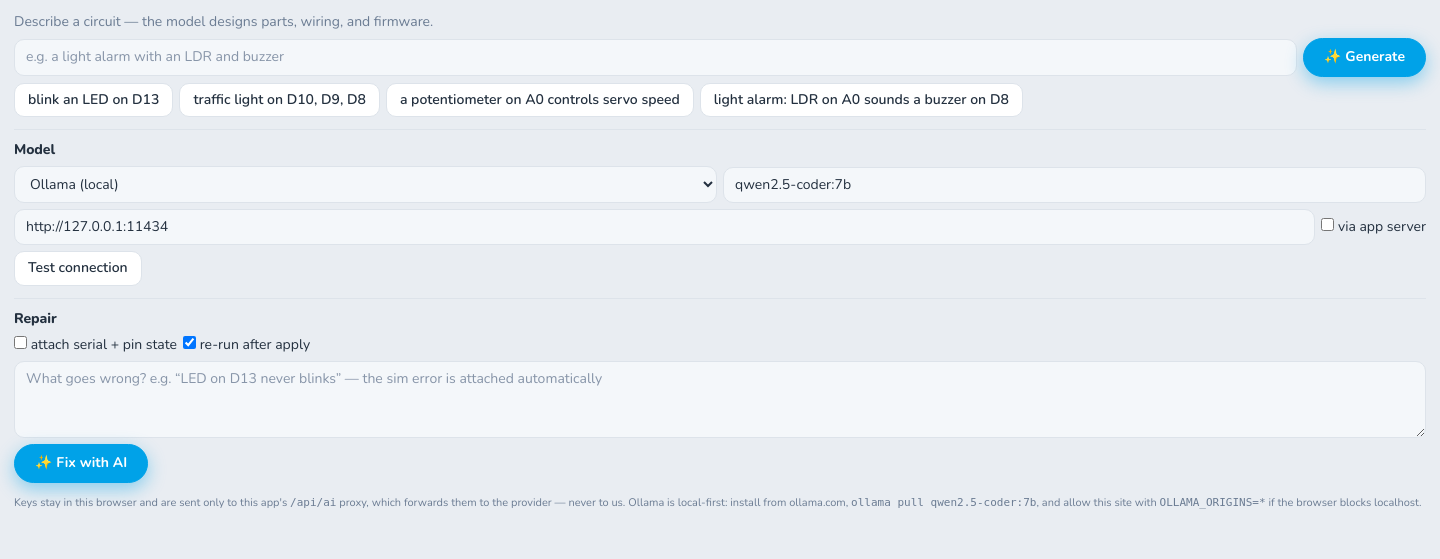
it: AiPanel repair loop › rejects an empty problem and a garbage model reply
The image size is (1440, 559).
Click the button "✨ Fix with AI" at (81, 463), box [14,444,148,483]
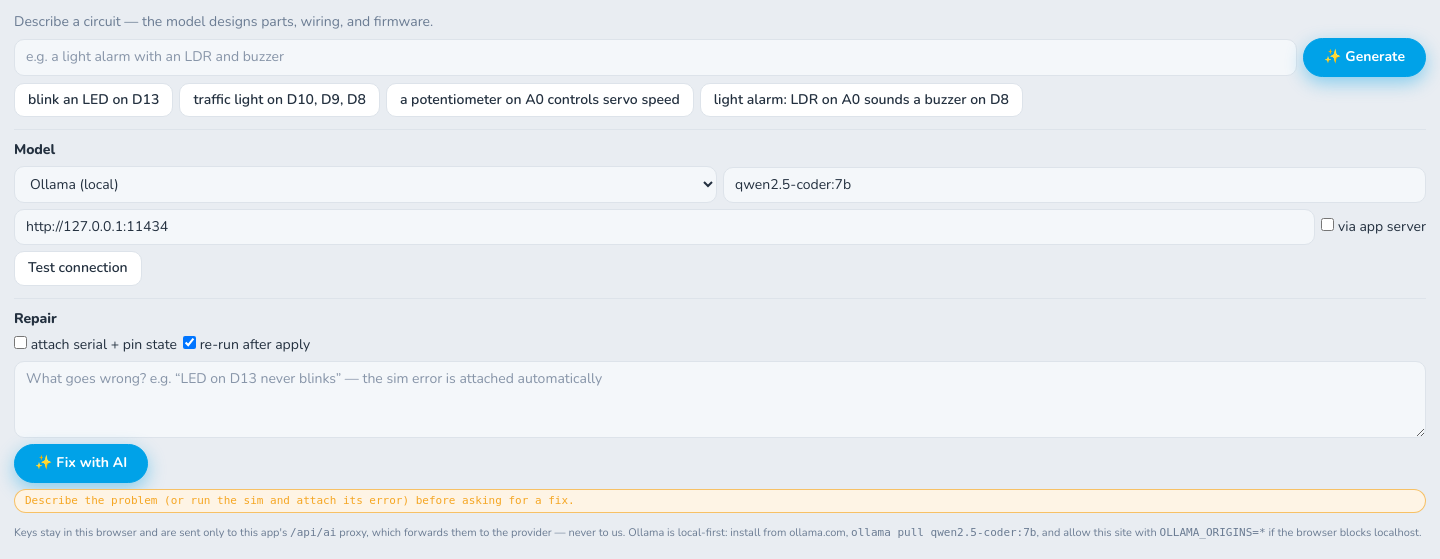
Result: the text "Describe the problem" is shown at [25,494,575,507]
Replace the text in the text box with "LED is dark" at (720, 400), box [14,361,1426,438]
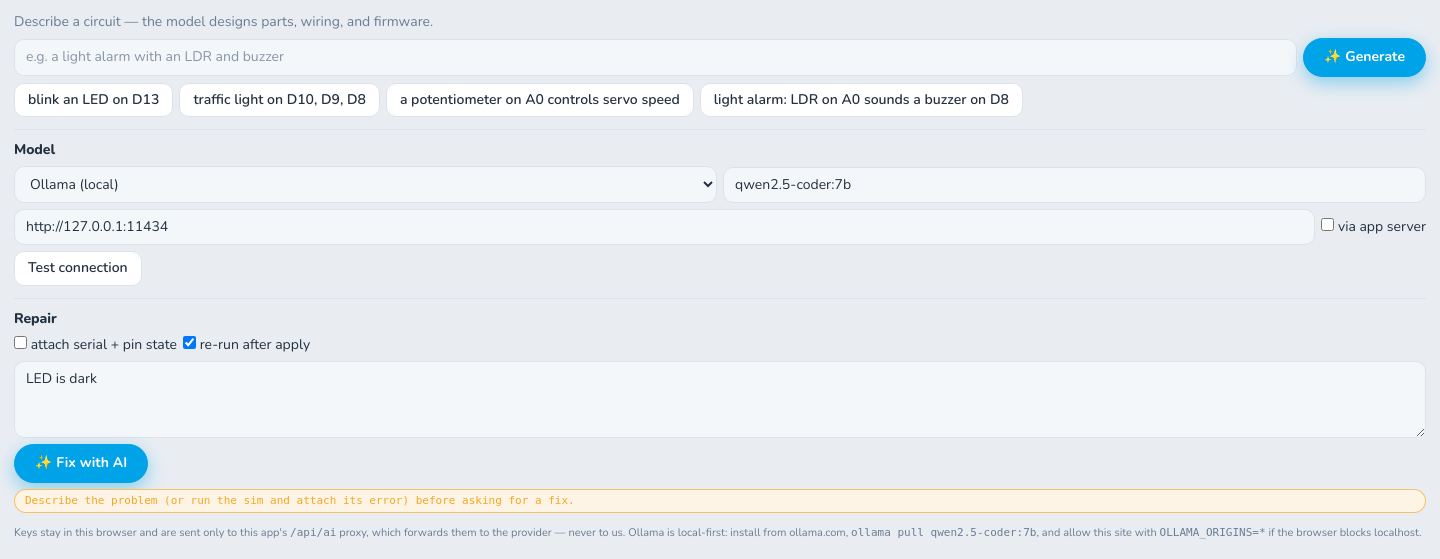
Click the button "✨ Fix with AI" at (81, 463), box [14,444,148,483]
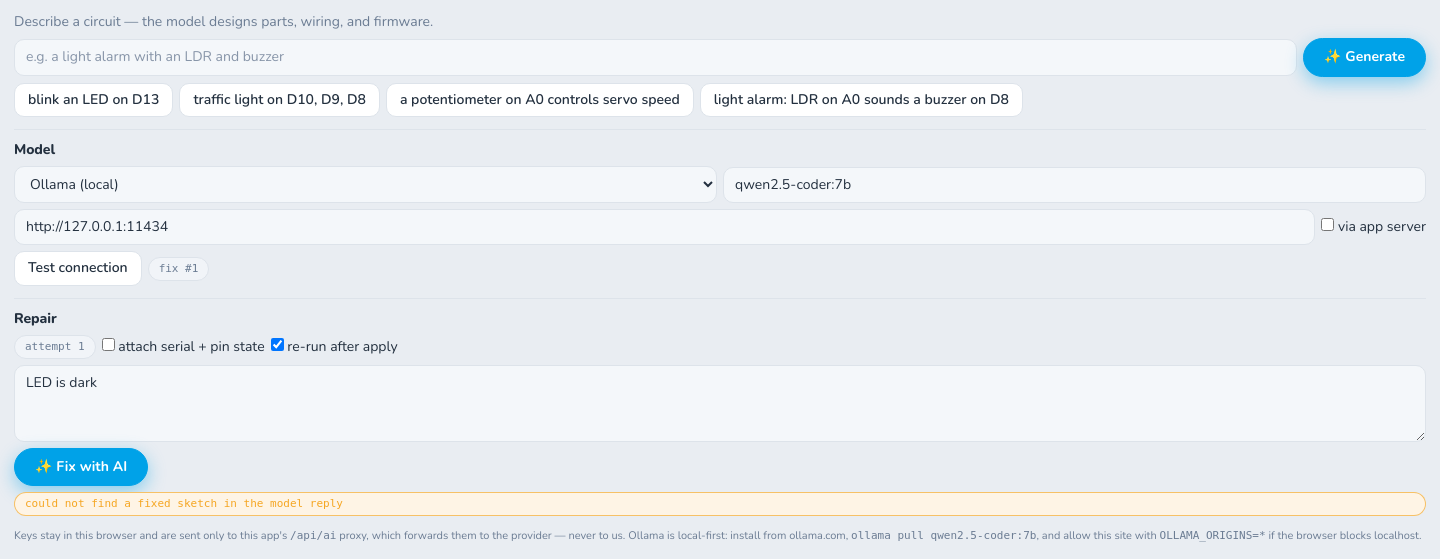
Result: the text "could not find a fixed sketch" is shown at [25,497,343,510]
